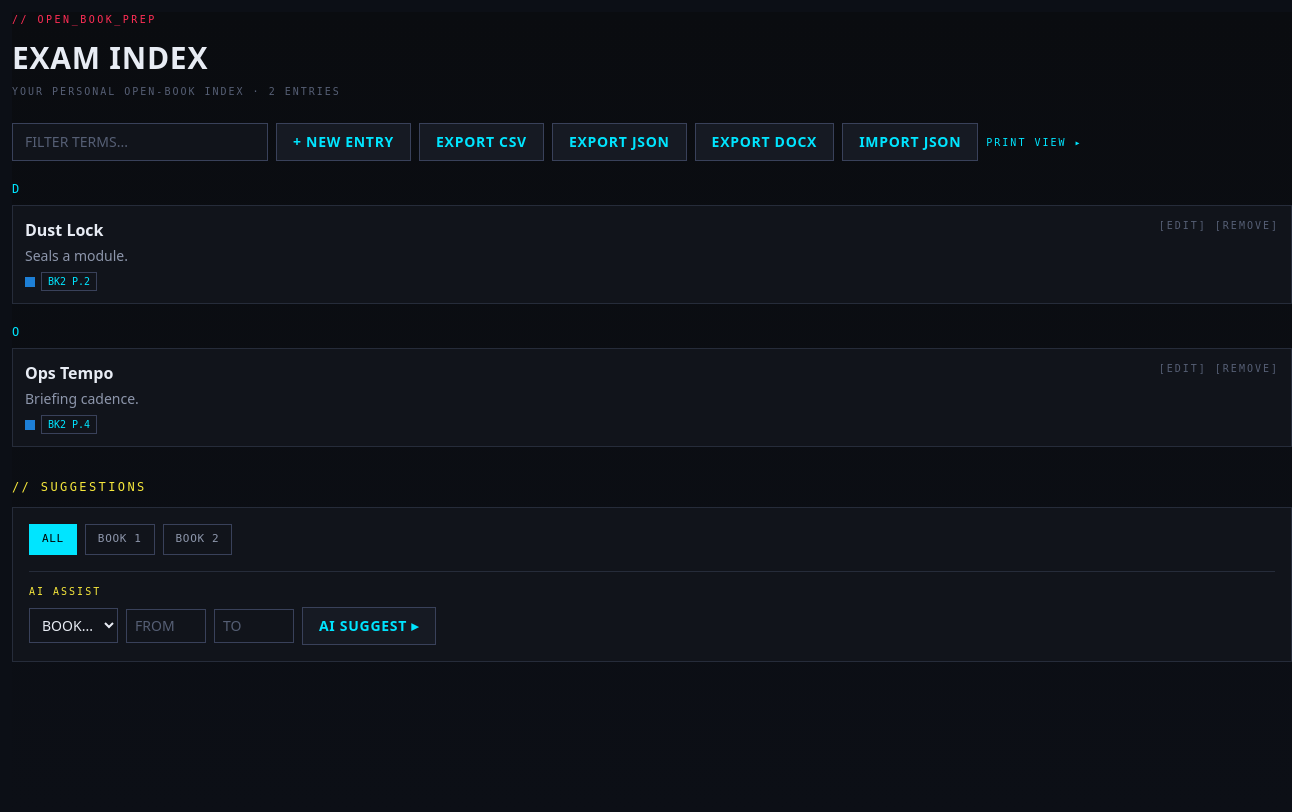
Test: filter narrows entries instantly across term, definition, and topic
Type "seals" into the field with placeholder "FILTER TERMS..." at (140, 142), box [12,123,268,161]
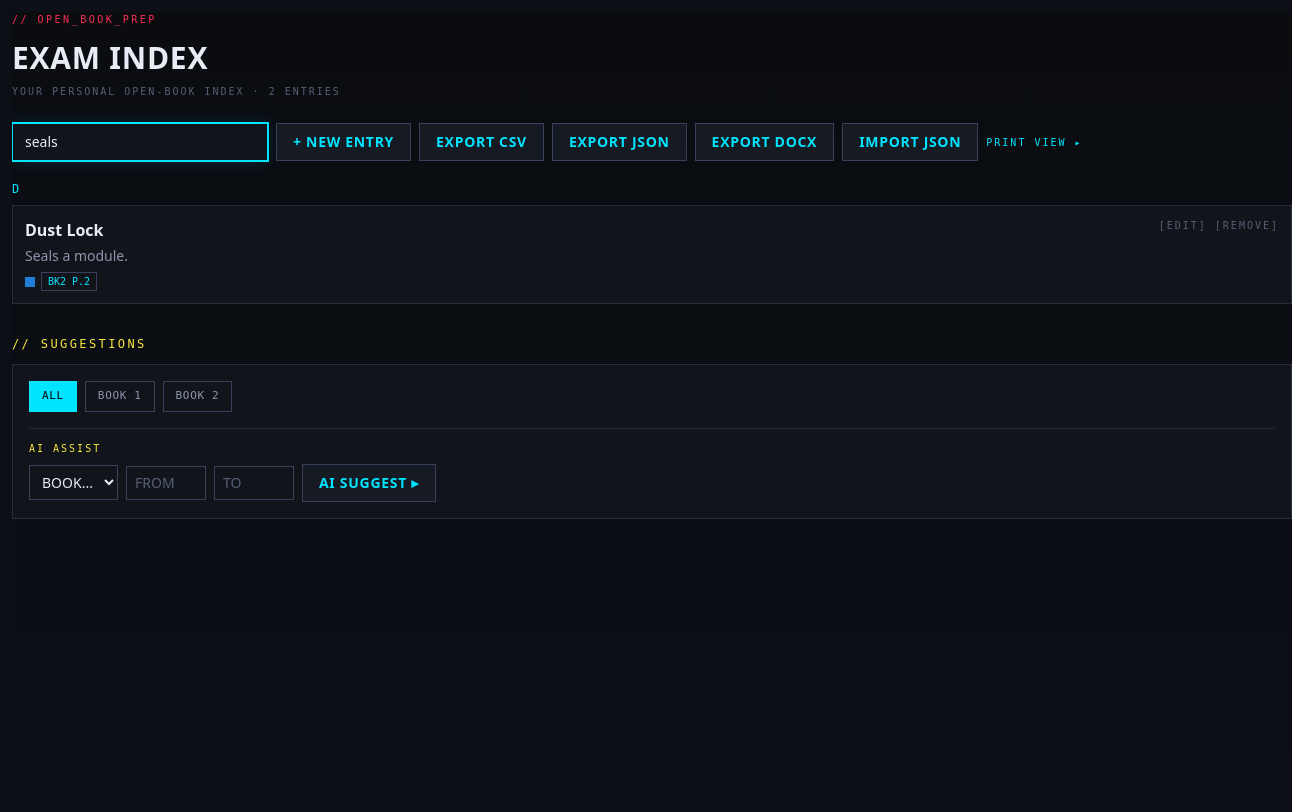
Expected: the text "Dust Lock" is shown, [25,218,104,242]
Now the text "Ops Tempo" is gone
